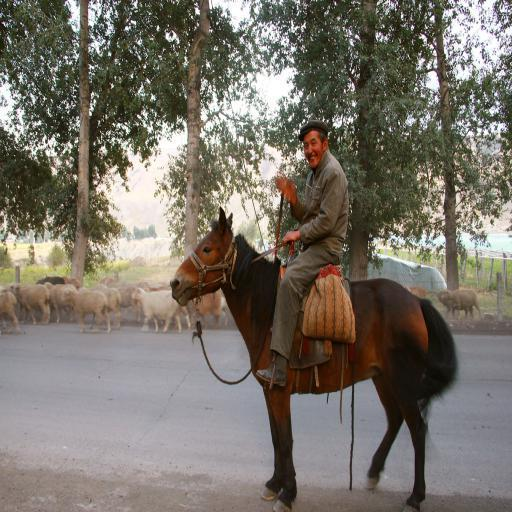horse: (167, 202, 458, 512)
